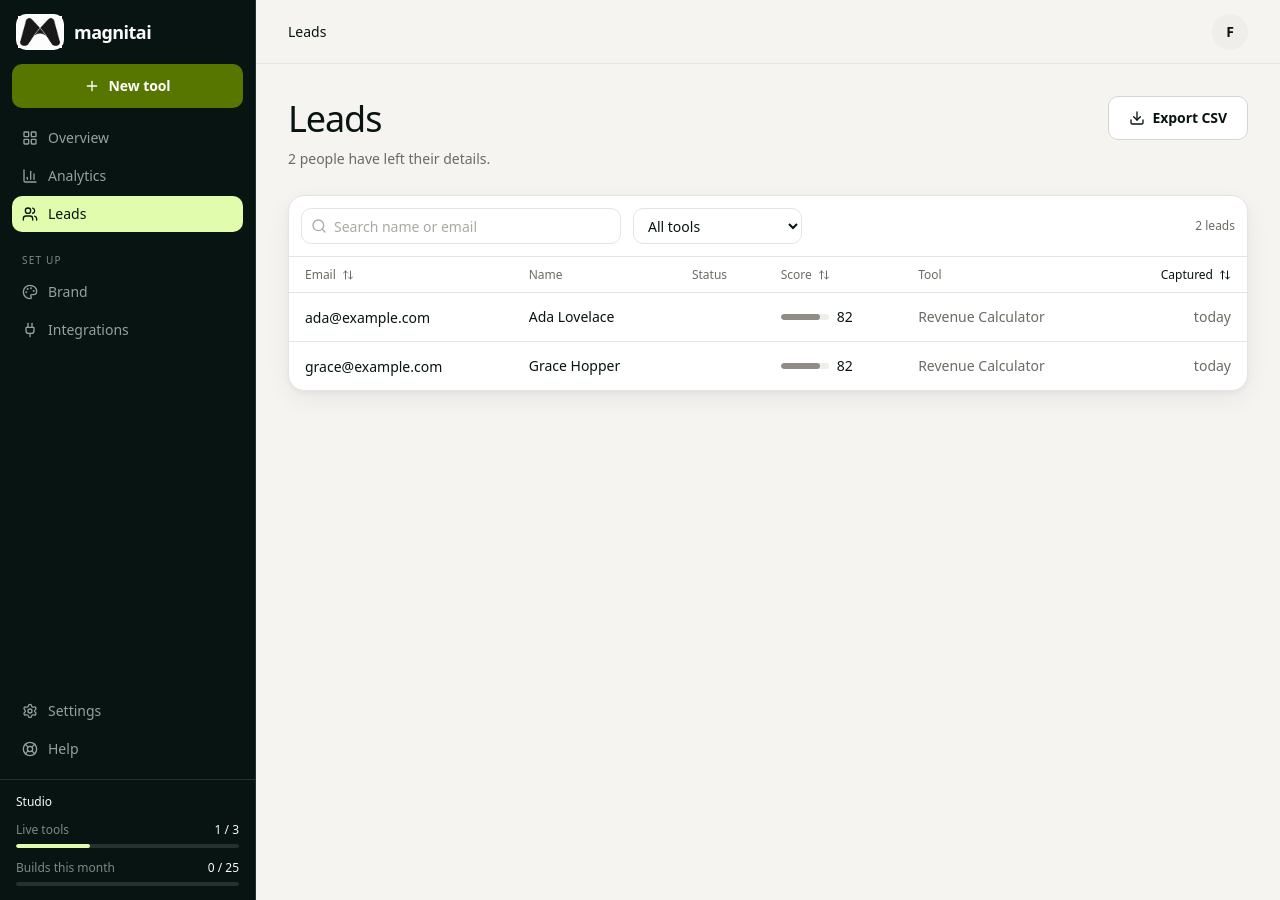
it: dashboard leads route › filters by the search box
Check: the link "ada@example.com" is shown, box [305,308,430,327]
Step 1. Type "grace" into the search field named "search leads" → (461, 226), box [301,208,621,244]
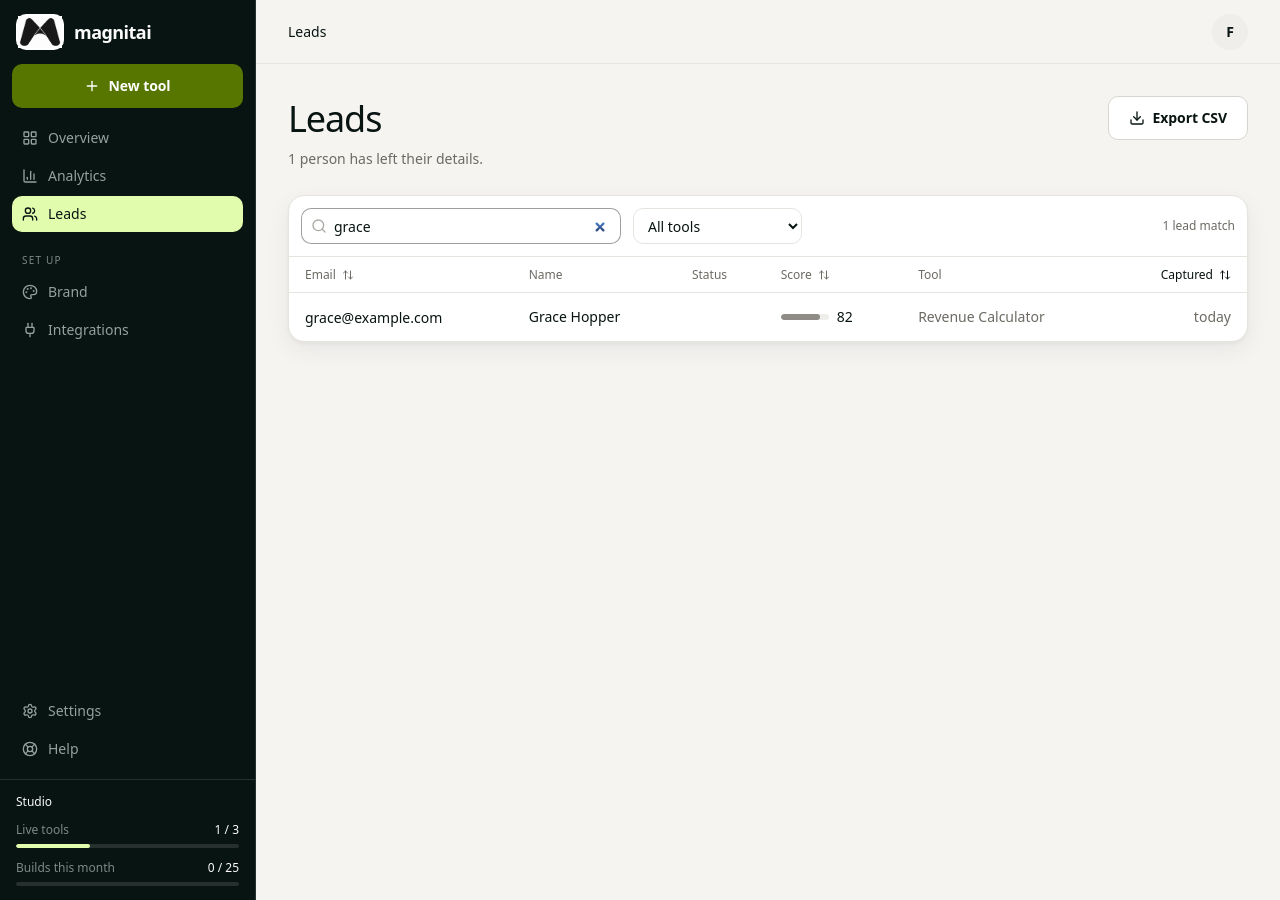
Check: the link "grace@example.com" is shown, box [305,308,442,327]
Check: the link "ada@example.com" is gone
